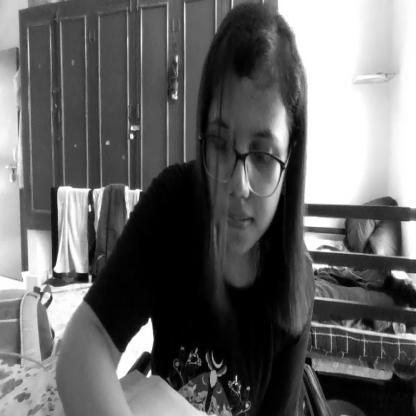Normal: (207, 7, 310, 267)
